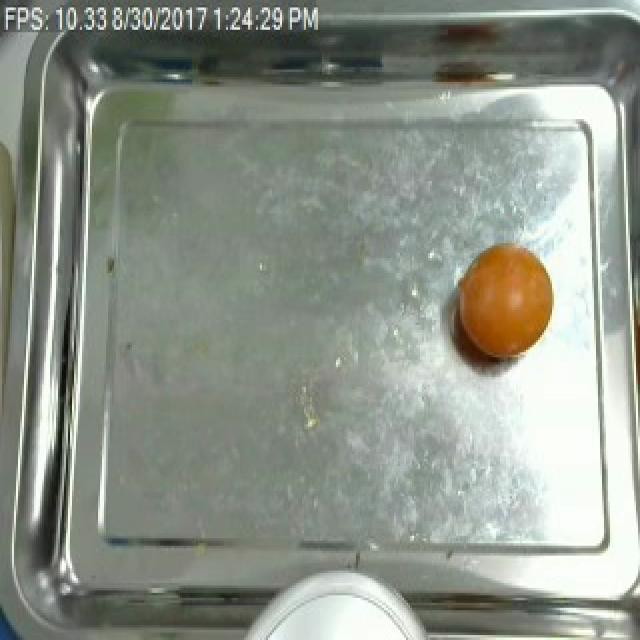Fruit: (448, 240, 560, 360)
